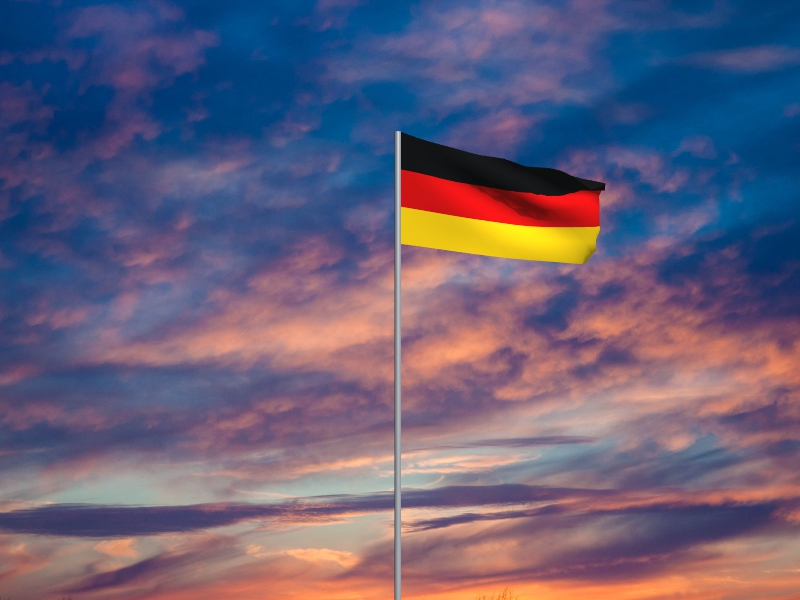de: (402, 133, 607, 266)
